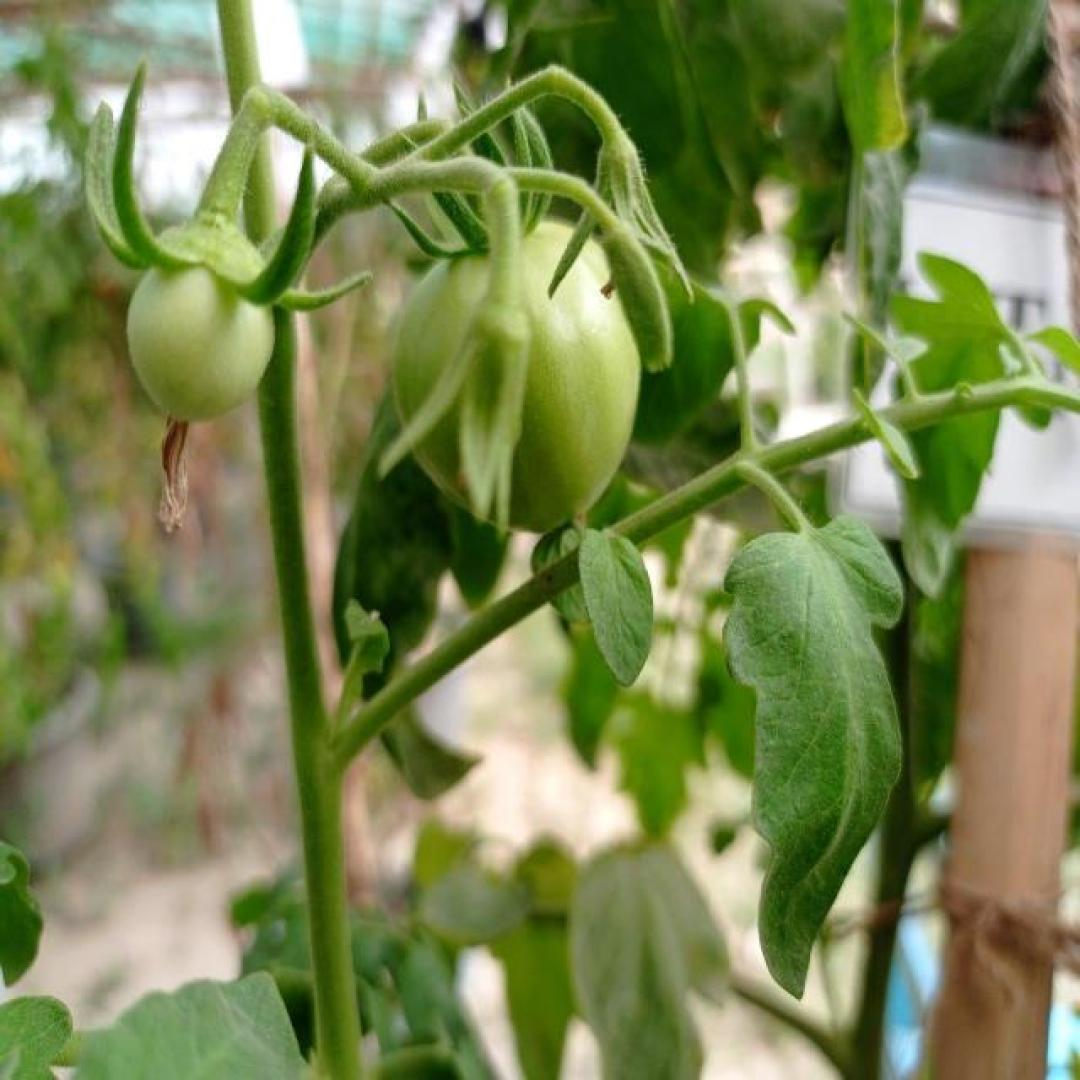mentah: (390, 214, 643, 535), (124, 236, 278, 424)
